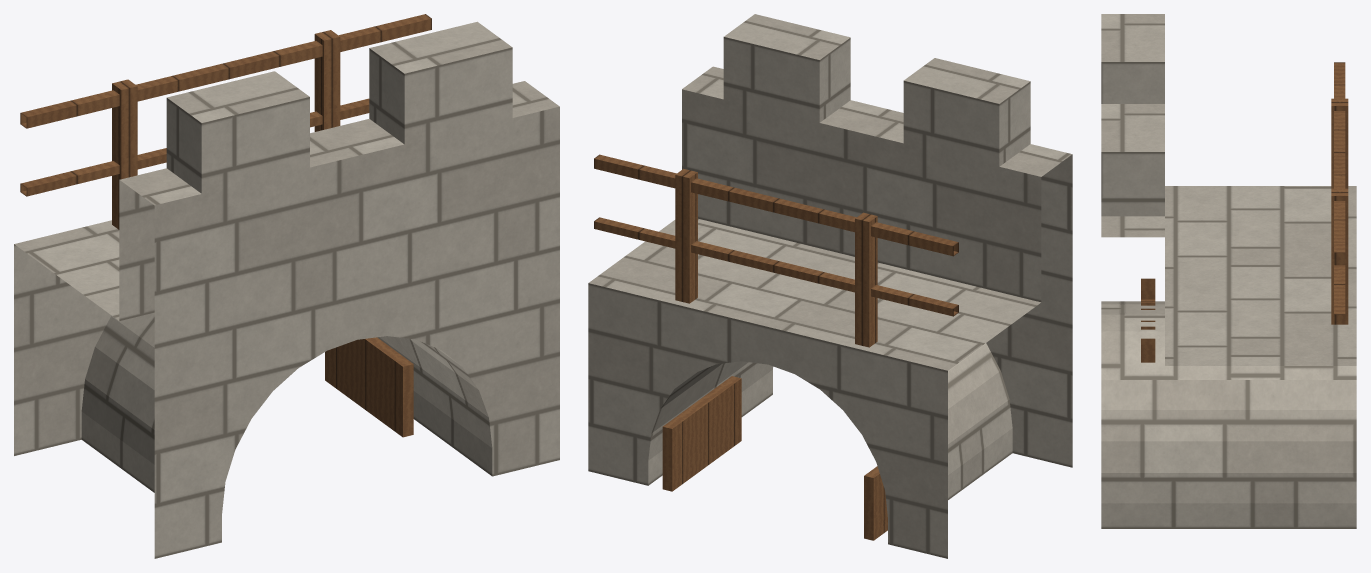
The model's file is Gate_Top.fbx.
The picture shows the model from 3 angles, left to right: view 1: azimuth 30°, elevation 25°; view 2: azimuth 150°, elevation 25°; view 3: azimuth 270°, elevation 25°; orthographic projection. The views are drawn at different scales.
Parts seen in each view (by area): view 1: Gate_Top; view 2: Gate_Top; view 3: Gate_Top.
Boxes of the visible parts, <box> form: Gate_Top: <box>14,14,559,558</box>; Gate_Top: <box>588,14,1072,558</box>; Gate_Top: <box>1101,14,1356,528</box>.
Size of the model in its own units: 3 by 3 by 1.8.
2 materials, 2 textured.
